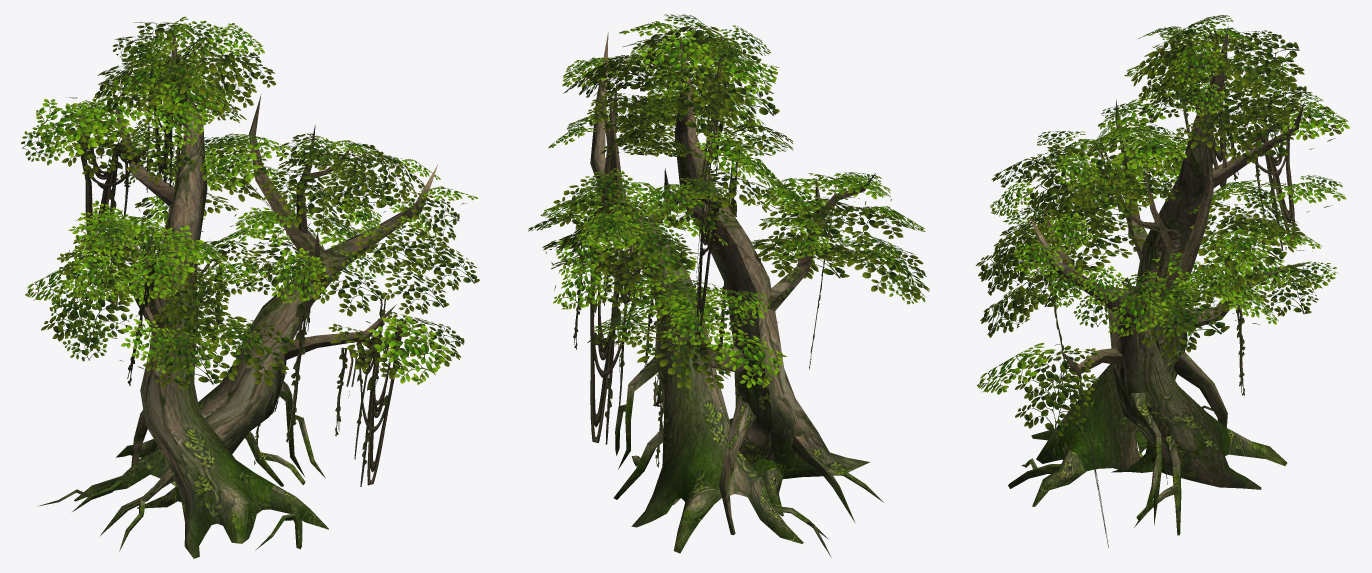
The model's file is 3004_Item_shu_7.FBX.
The picture shows the model from 3 angles, left to right: view 1: azimuth 30°, elevation 25°; view 2: azimuth 150°, elevation 25°; view 3: azimuth 270°, elevation 25°; orthographic projection. The views are drawn at different scales.
Visible parts, largest first — view 1: 3004_Item_shu_7; view 2: 3004_Item_shu_7; view 3: 3004_Item_shu_7.
Part boxes in pixels (x1=…): 3004_Item_shu_7: x1=21, y1=16, x2=479, y2=558; 3004_Item_shu_7: x1=528, y1=14, x2=929, y2=557; 3004_Item_shu_7: x1=975, y1=15, x2=1349, y2=547.
Size of the model in its own units: 2814 by 3131 by 2340.
